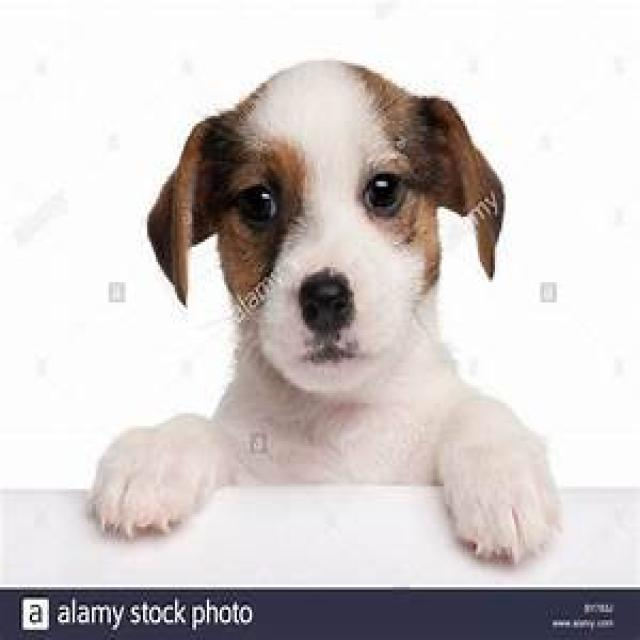animal: (89, 60, 555, 563)
